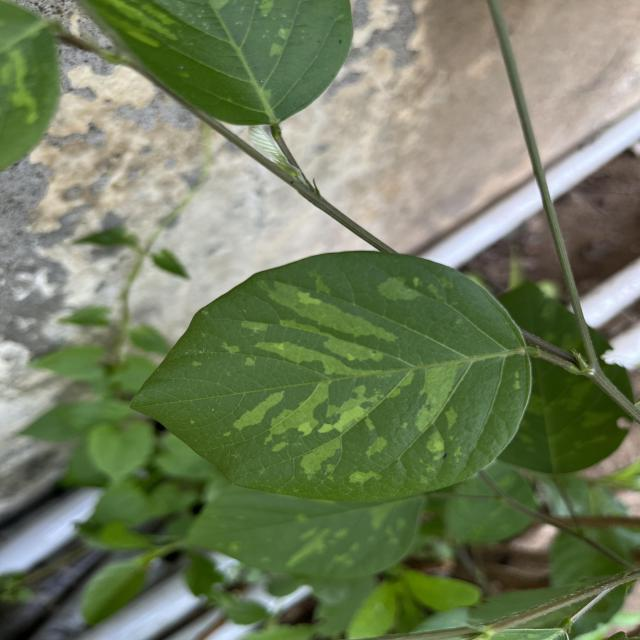Desmodium gangeticum: (119, 247, 538, 510)
